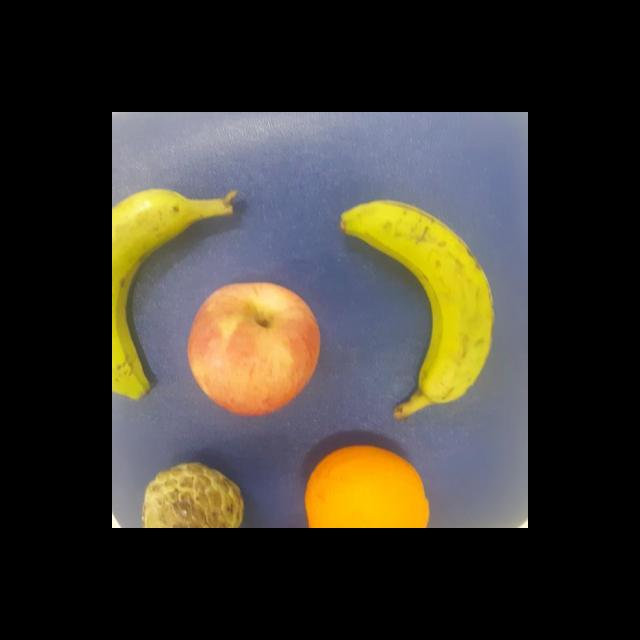Sakya fruit: (136, 458, 248, 528)
apple: (185, 280, 324, 417)
banana: (331, 198, 496, 406), (112, 183, 196, 403)
orange: (302, 444, 430, 528)
